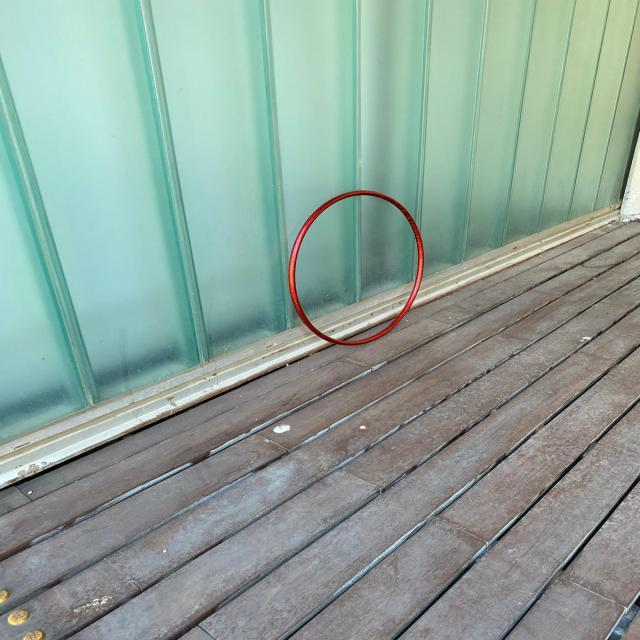Circle: (287, 189, 425, 347)
